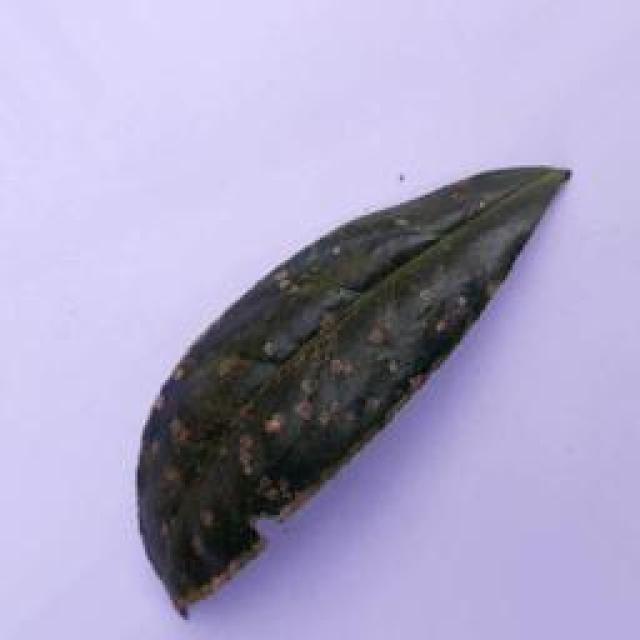Algal Leaf Spot: (126, 154, 584, 620)
